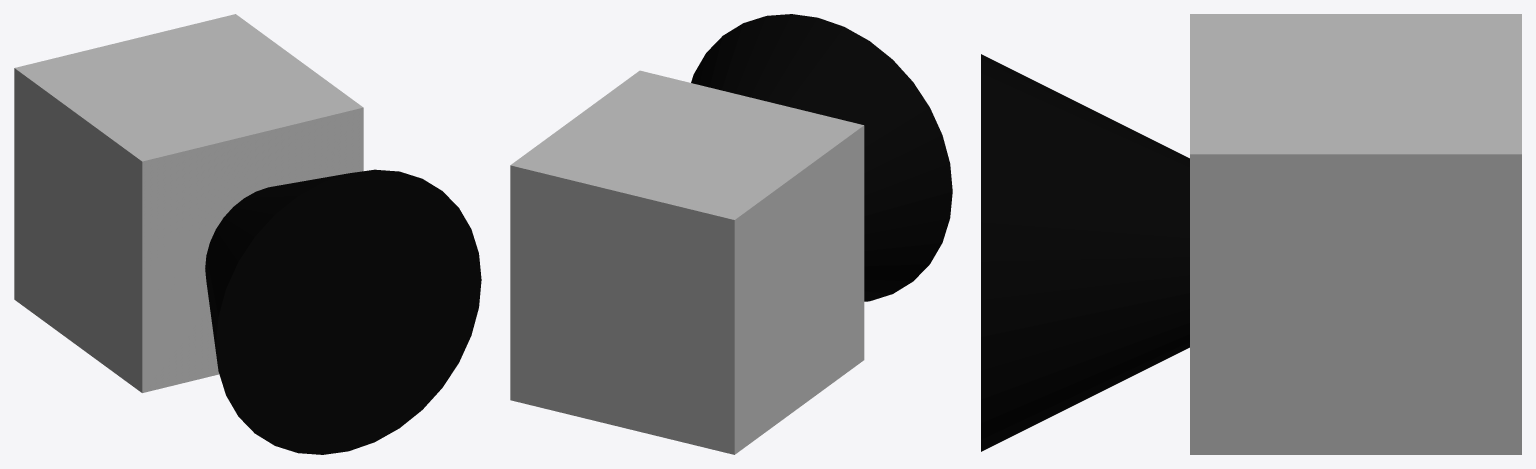
File: camera.obj
3 views of the same model, side by side, from view 1: azimuth 30°, elevation 25°; view 2: azimuth 150°, elevation 25°; view 3: azimuth 270°, elevation 25° (orthographic). The views are drawn at different scales.
Parts seen in each view (by area): view 1: 円錐; view 2: 円錐; view 3: 円錐.
Part boxes in pixels (x1,y1,x2,y2): 円錐: [14, 14, 481, 454]; 円錐: [510, 14, 952, 454]; 円錐: [981, 14, 1521, 454].
Size of the model in its own units: 1.2 by 1.2 by 1.63.
